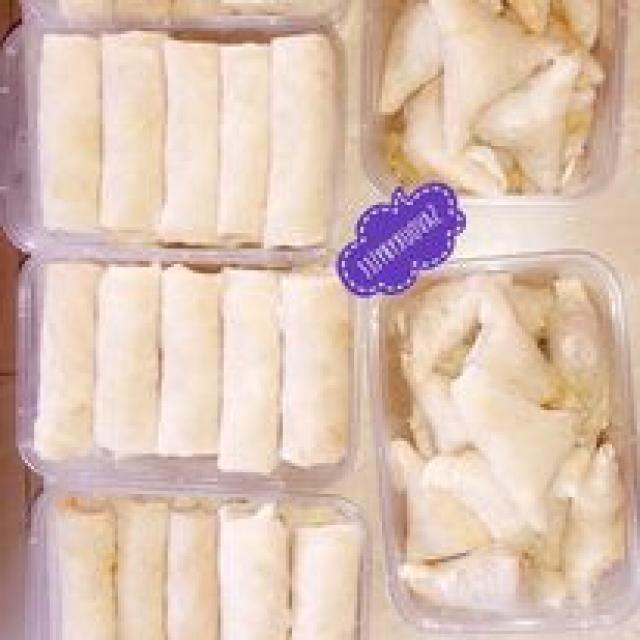Samosa: (394, 0, 636, 640)
Spring Rolls: (17, 6, 360, 640)
